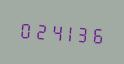four: (46, 18, 59, 43)
one: (60, 19, 73, 44)
six: (88, 21, 101, 46)
three: (74, 20, 87, 45)
two: (31, 17, 44, 42)
zero: (17, 16, 30, 41)
